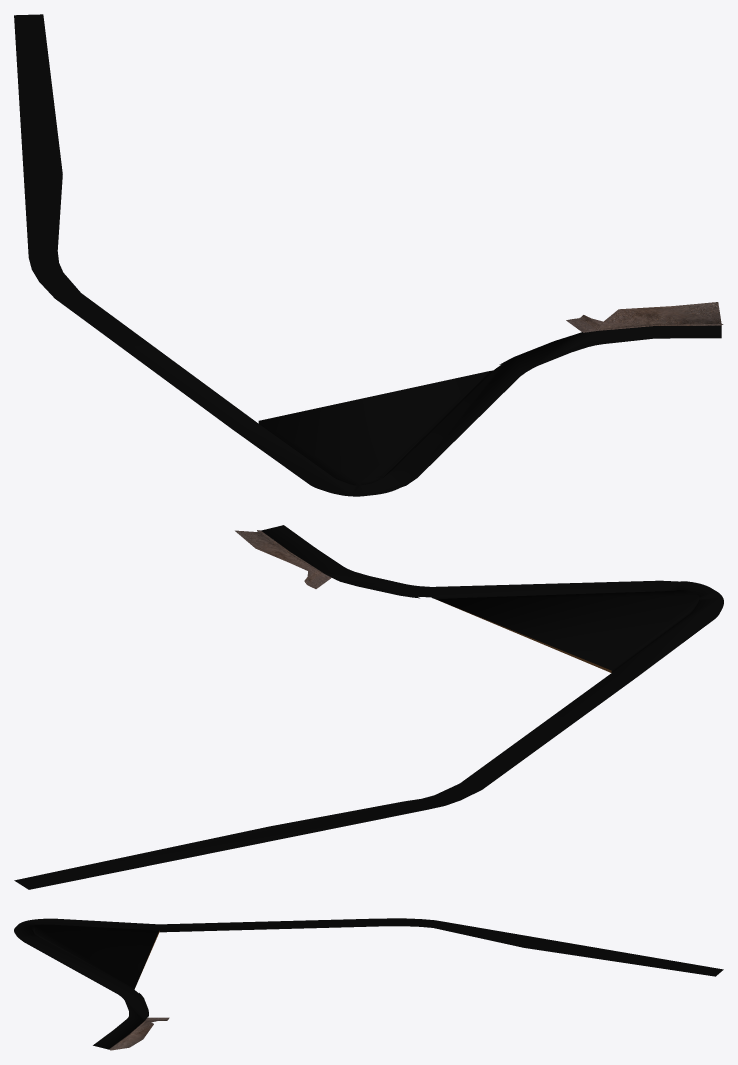
Rendered from RobTurn_ground.fbx.
3 renders of one model, top to bottom at view 1: azimuth 30°, elevation 25°; view 2: azimuth 150°, elevation 25°; view 3: azimuth 270°, elevation 25°, orthographic. The views are drawn at different scales.
Parts seen in each view (by area): view 1: scenerytemplate; view 2: scenerytemplate; view 3: scenerytemplate.
Boxes of the visible parts, box(x1,y1,x2,y2) form: scenerytemplate: box(14, 14, 723, 496); scenerytemplate: box(14, 525, 723, 889); scenerytemplate: box(14, 918, 723, 1050).
Size of the model in its own units: 36542 by 2820 by 75113.
Materials: 2 (1 with a texture image).
